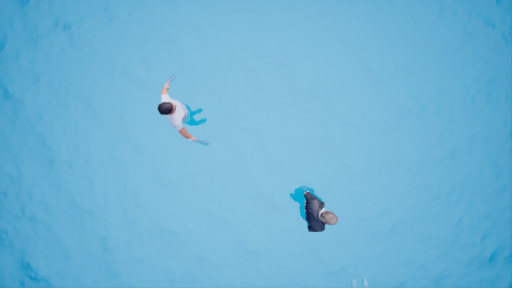person: (150, 67, 214, 146), (291, 178, 342, 233)
